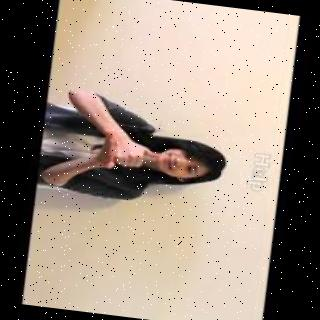Help: (81, 133, 165, 189)
